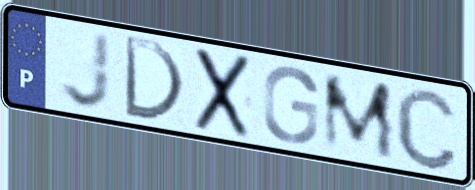C: (393, 85, 460, 173)
D: (121, 32, 188, 126)
G: (260, 64, 321, 146)
J: (58, 29, 113, 112)
M: (320, 72, 398, 163)
X: (191, 45, 254, 142)
